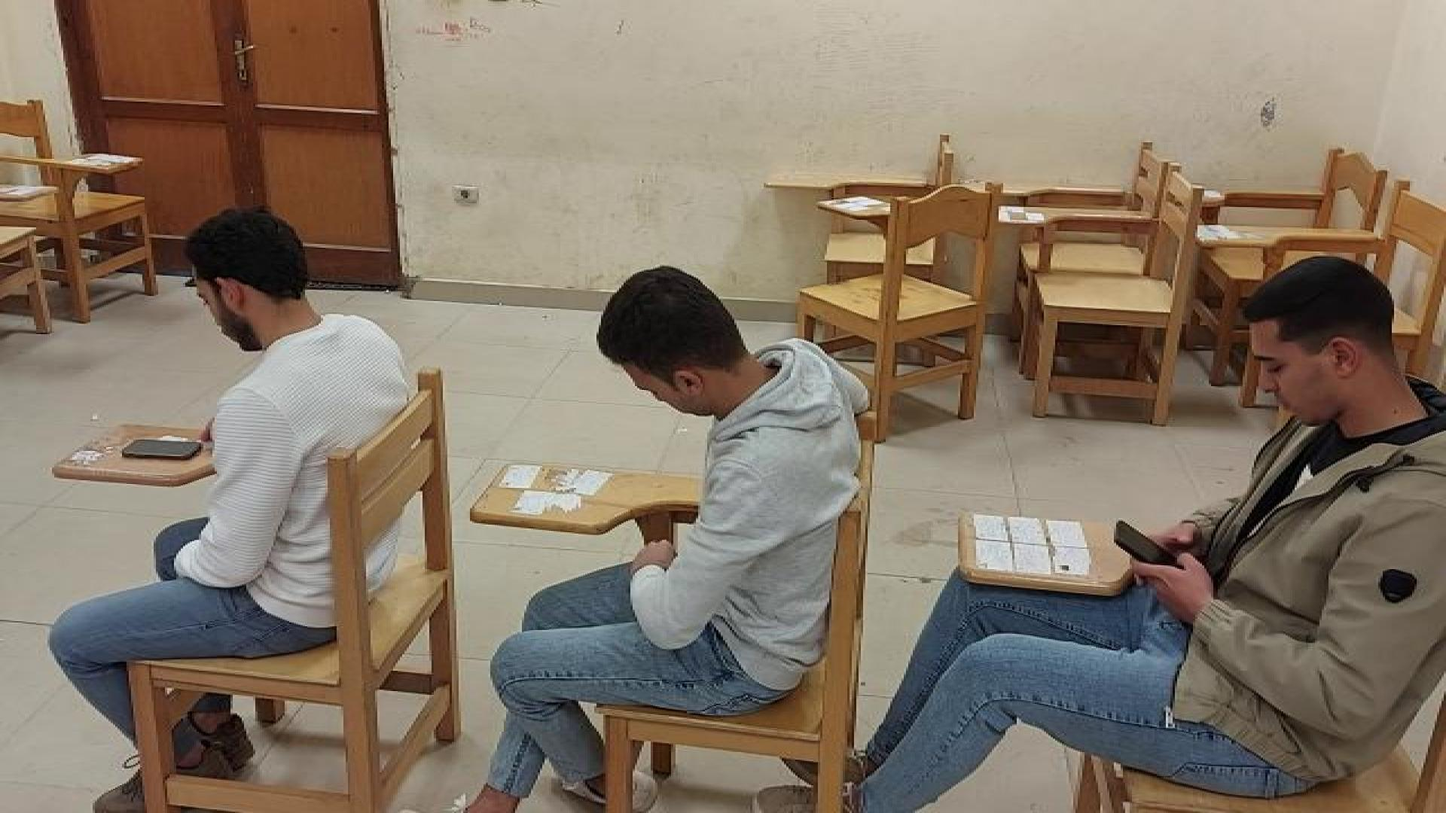phone: (1112, 516, 1182, 568), (117, 435, 203, 461)
